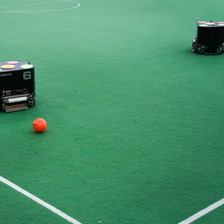ball: (29, 116, 48, 134)
robot: (1, 57, 37, 116), (189, 17, 224, 57)
